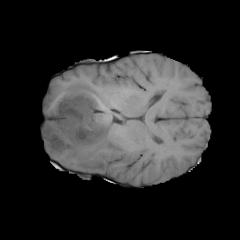glioma: (42, 82, 125, 173)
